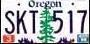placa de veiculo: (1, 0, 88, 43)
